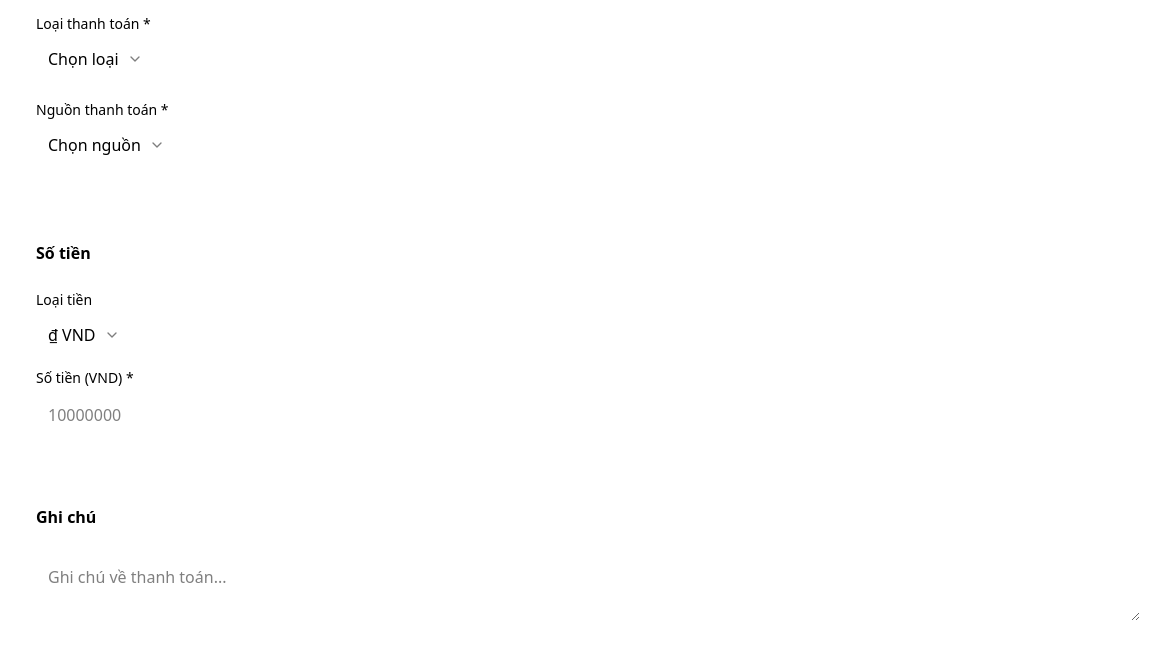
Test: RevenueForm › Exchange Rate Configuration › shows formatted amount preview
(page scrolled)
Type "1000000" into the number field labelled "Số tiền (VND) *". click: (588, 415)
box: [36,393,1140,437]
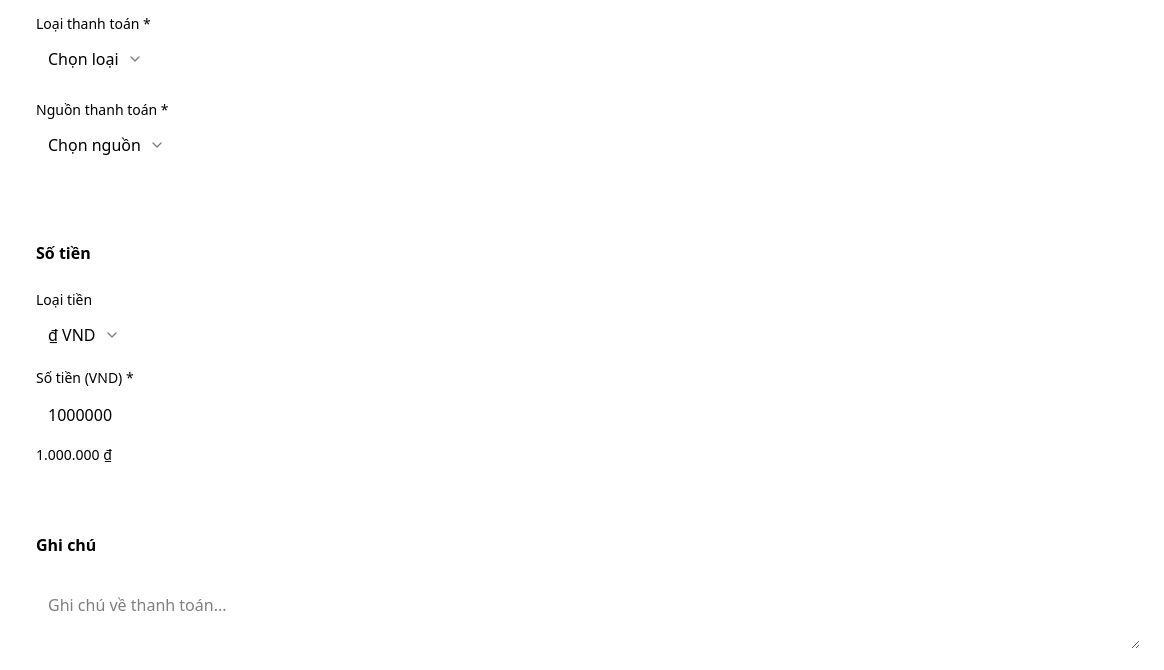
Expected: the text "1.000.000 ₫" is shown, [36,445,112,464]
